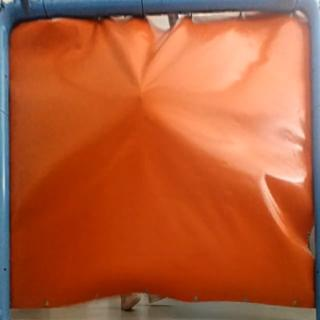Hit-hRxx: (131, 89, 147, 106)
